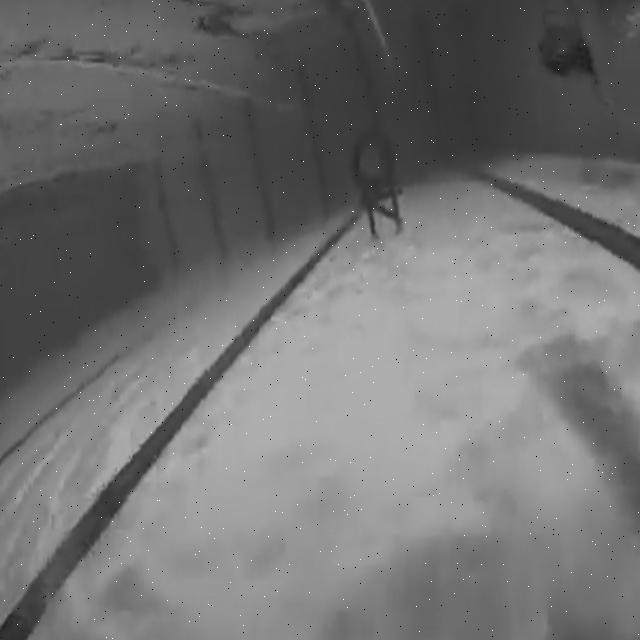Circle: (353, 126, 396, 194)
